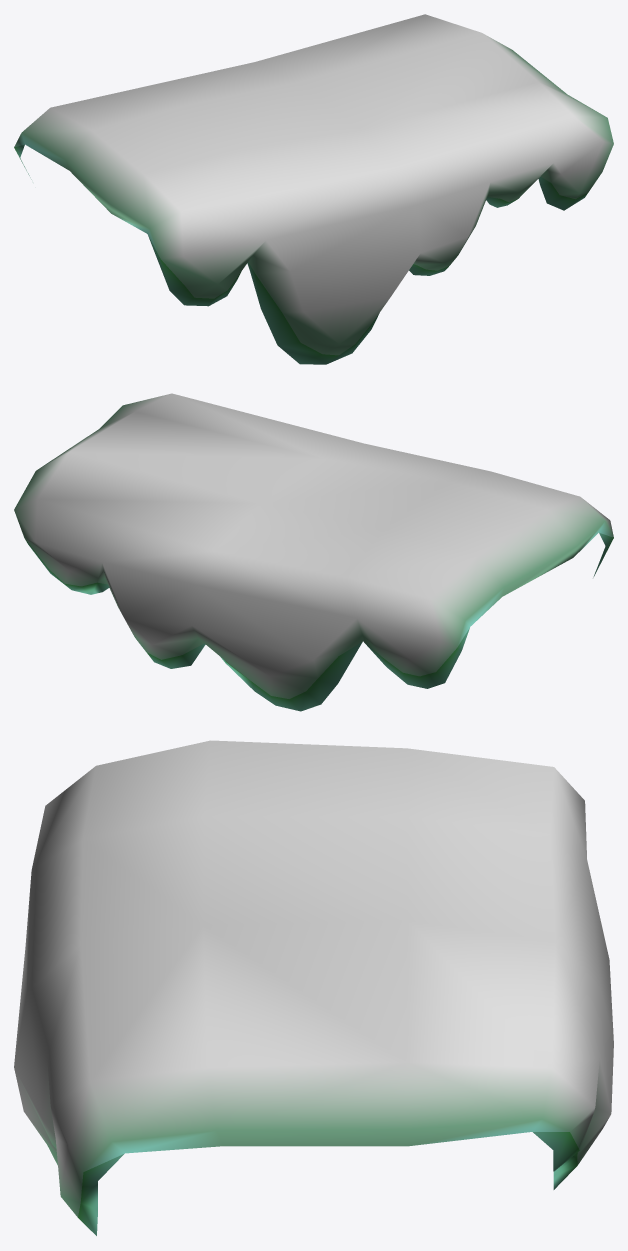
The model's file is PenglantisArchwaySeaweedB_2.glb.
3 views of the same model, one above another, from view 1: azimuth 30°, elevation 25°; view 2: azimuth 150°, elevation 25°; view 3: azimuth 270°, elevation 25° (orthographic). The views are drawn at different scales.
Visible parts, largest first — view 1: PenglantisArchwaySeaweedB; view 2: PenglantisArchwaySeaweedB; view 3: PenglantisArchwaySeaweedB.
Part boxes in pixels (bbox=[...]): PenglantisArchwaySeaweedB: bbox=[14, 14, 613, 364]; PenglantisArchwaySeaweedB: bbox=[14, 393, 613, 711]; PenglantisArchwaySeaweedB: bbox=[14, 740, 613, 1235].
Size of the model in its own units: 1.38 by 0.5799 by 0.9261.
